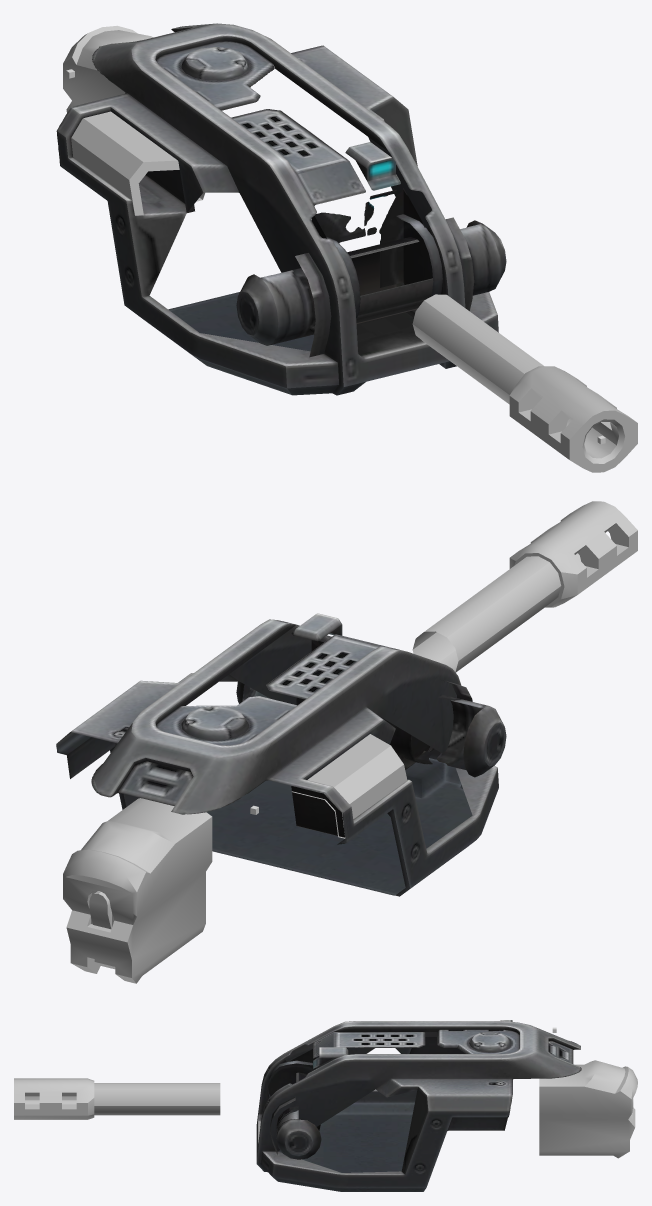
Rendered from Smoky_Standart.fbx.
The picture shows the model from 3 angles, top to bottom: view 1: azimuth 30°, elevation 25°; view 2: azimuth 150°, elevation 25°; view 3: azimuth 270°, elevation 25°; orthographic projection. The views are drawn at different scales.
Visible parts, largest first — view 1: turret; view 2: turret; view 3: turret.
Part boxes in pixels (bbox=[...]): turret: bbox=[56, 23, 637, 472]; turret: bbox=[56, 501, 637, 983]; turret: bbox=[14, 1020, 637, 1191].
Size of the model in its own units: 1.57 by 0.977 by 4.85.
